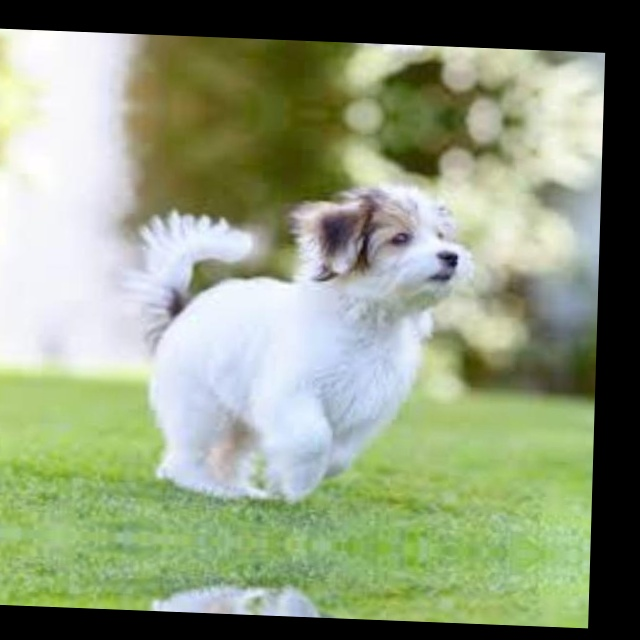dog: (90, 170, 474, 504), (86, 582, 462, 623), (103, 33, 478, 54)
